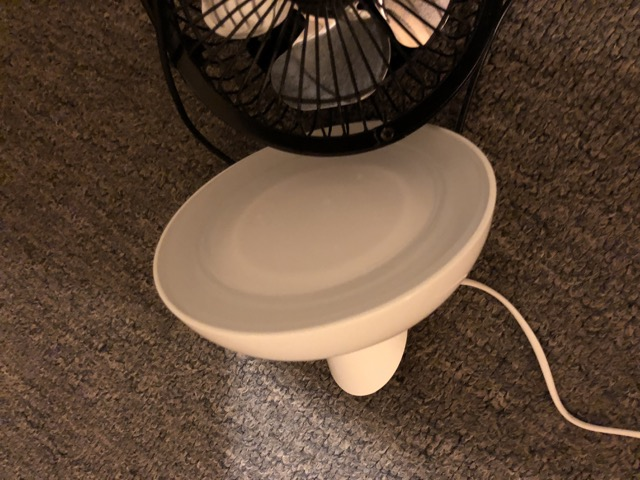fan: (129, 1, 518, 153)
light: (143, 114, 499, 409)
